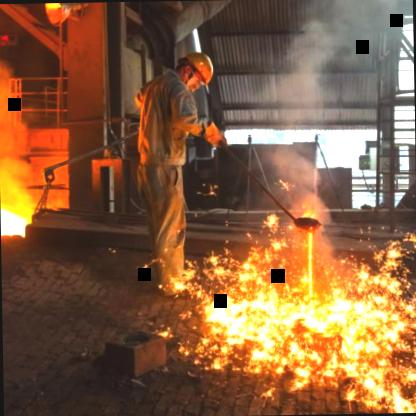helmet: (174, 46, 218, 94)
